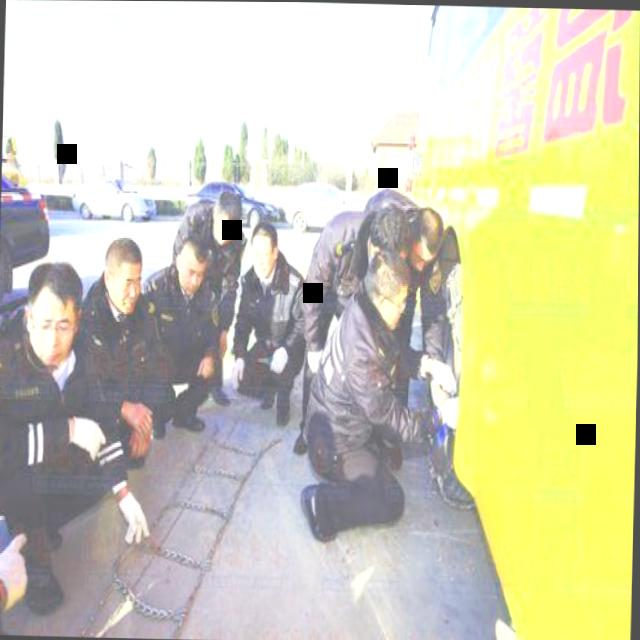Fall-Detected: (0, 484, 42, 635)
